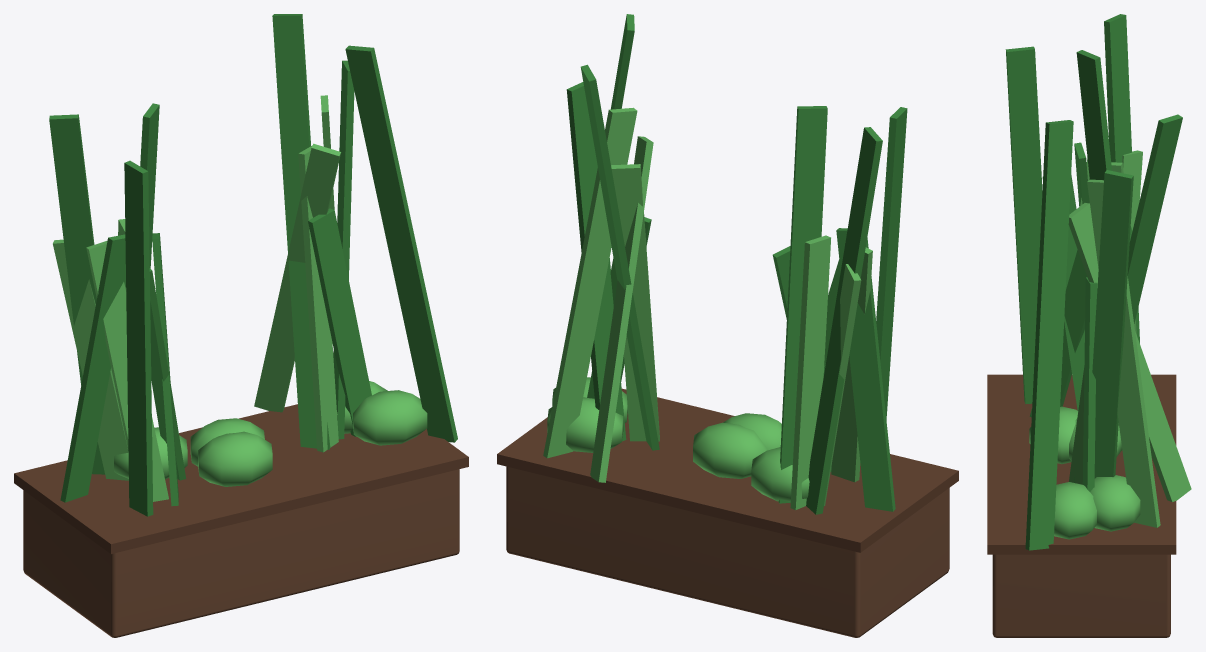
Rendered from Planter.fbx.
3 renders of one model, left to right at view 1: azimuth 30°, elevation 25°; view 2: azimuth 150°, elevation 25°; view 3: azimuth 270°, elevation 25°, orthographic. The views are drawn at different scales.
Parts seen in each view (by area): view 1: PlanterBody; view 2: PlanterBody; view 3: PlanterBody.
Boxes of the visible parts, bbox=[...] form: PlanterBody: bbox=[14, 14, 468, 637]; PlanterBody: bbox=[497, 14, 958, 637]; PlanterBody: bbox=[987, 14, 1191, 637].
Bounding box in the file's own units: 1.16 × 1.51 × 0.5735.
